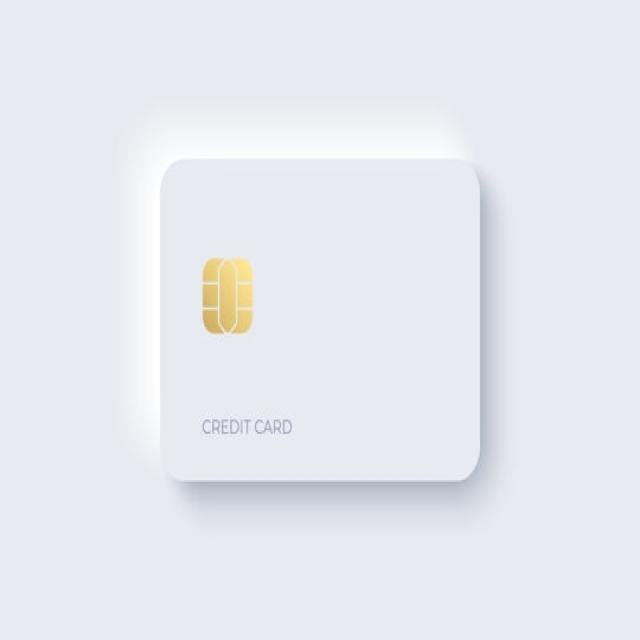payment_card: (157, 155, 482, 484)
